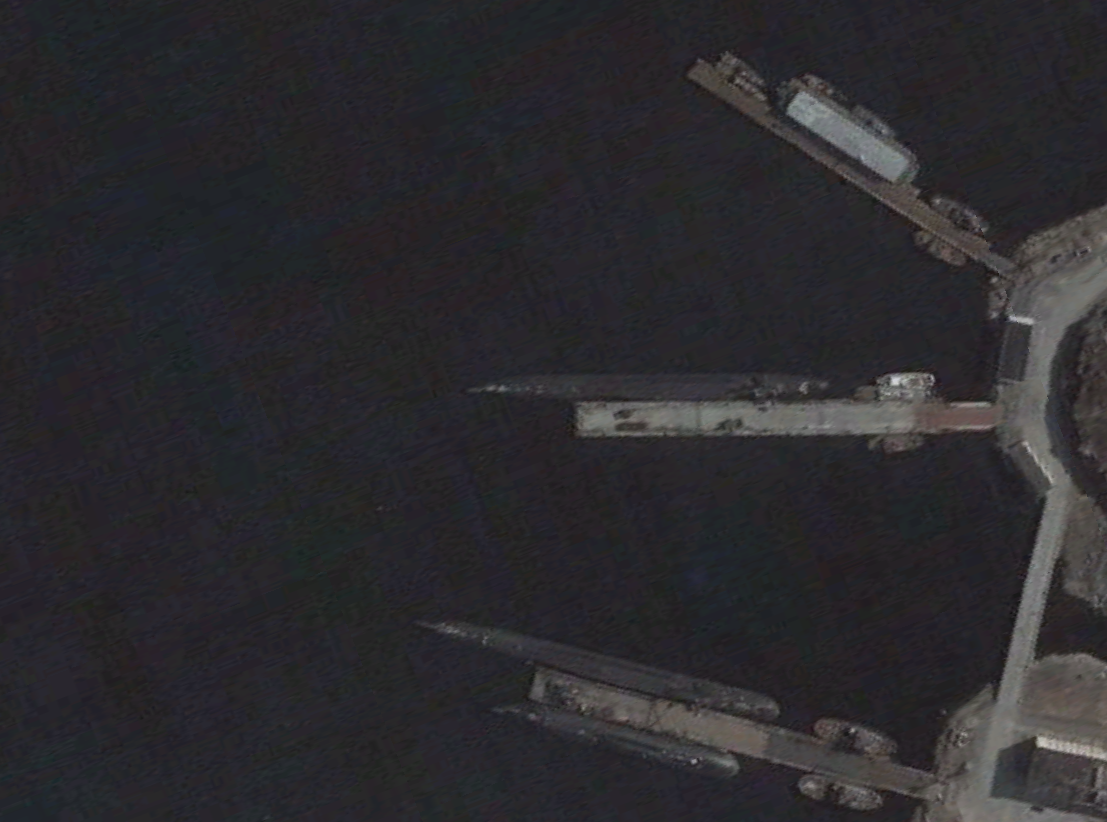merchant ship: (793, 769, 885, 809), (811, 717, 896, 756), (935, 195, 993, 237), (916, 231, 965, 267), (853, 103, 896, 138), (804, 72, 843, 100), (876, 369, 936, 387)
submarine: (406, 610, 780, 720), (485, 699, 740, 778), (463, 369, 829, 398)
